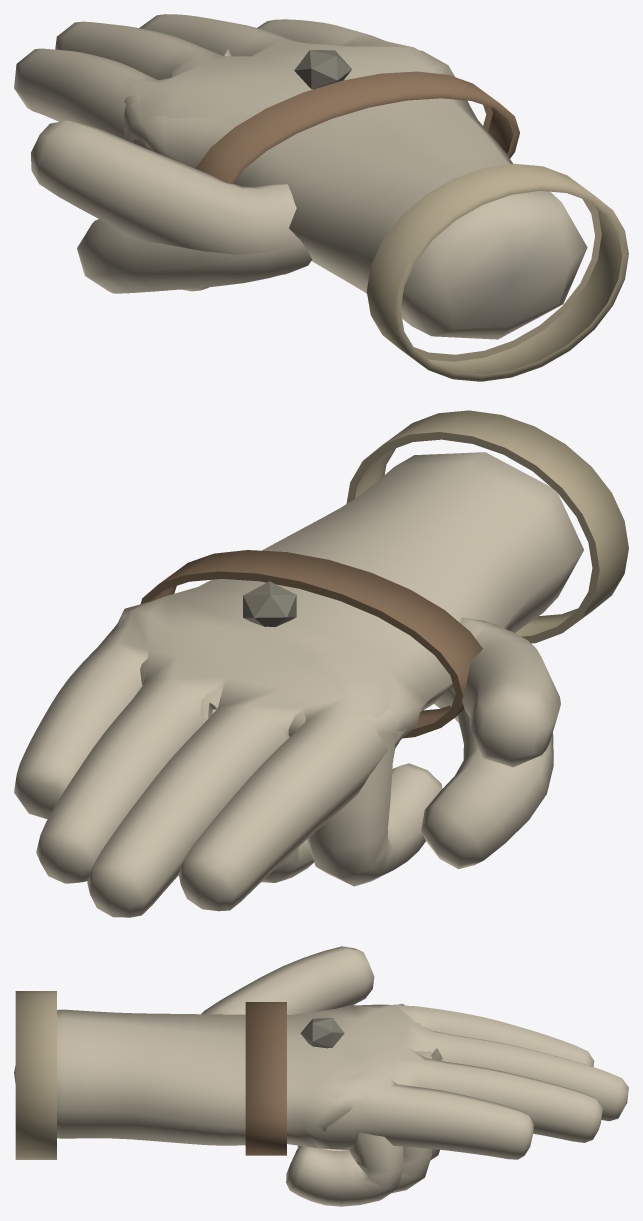
Rendered from glove-t0.glb.
3 renders of one model, top to bottom at view 1: azimuth 30°, elevation 25°; view 2: azimuth 150°, elevation 25°; view 3: azimuth 270°, elevation 25°, orthographic. The views are drawn at different scales.
Parts seen in each view (by area): view 1: glove_fist, glove_open; view 2: glove_open, glove_fist; view 3: glove_fist, glove_open.
Part boxes in pixels (x1,y1,x2,y2): glove_fist: [77, 48, 628, 381]; glove_open: [14, 14, 507, 339]; glove_open: [14, 452, 583, 917]; glove_fist: [116, 410, 628, 886]; glove_fist: [15, 991, 442, 1206]; glove_open: [14, 946, 628, 1159].
Size of the model in its own units: 0.1246 by 0.0685 by 0.2084.
